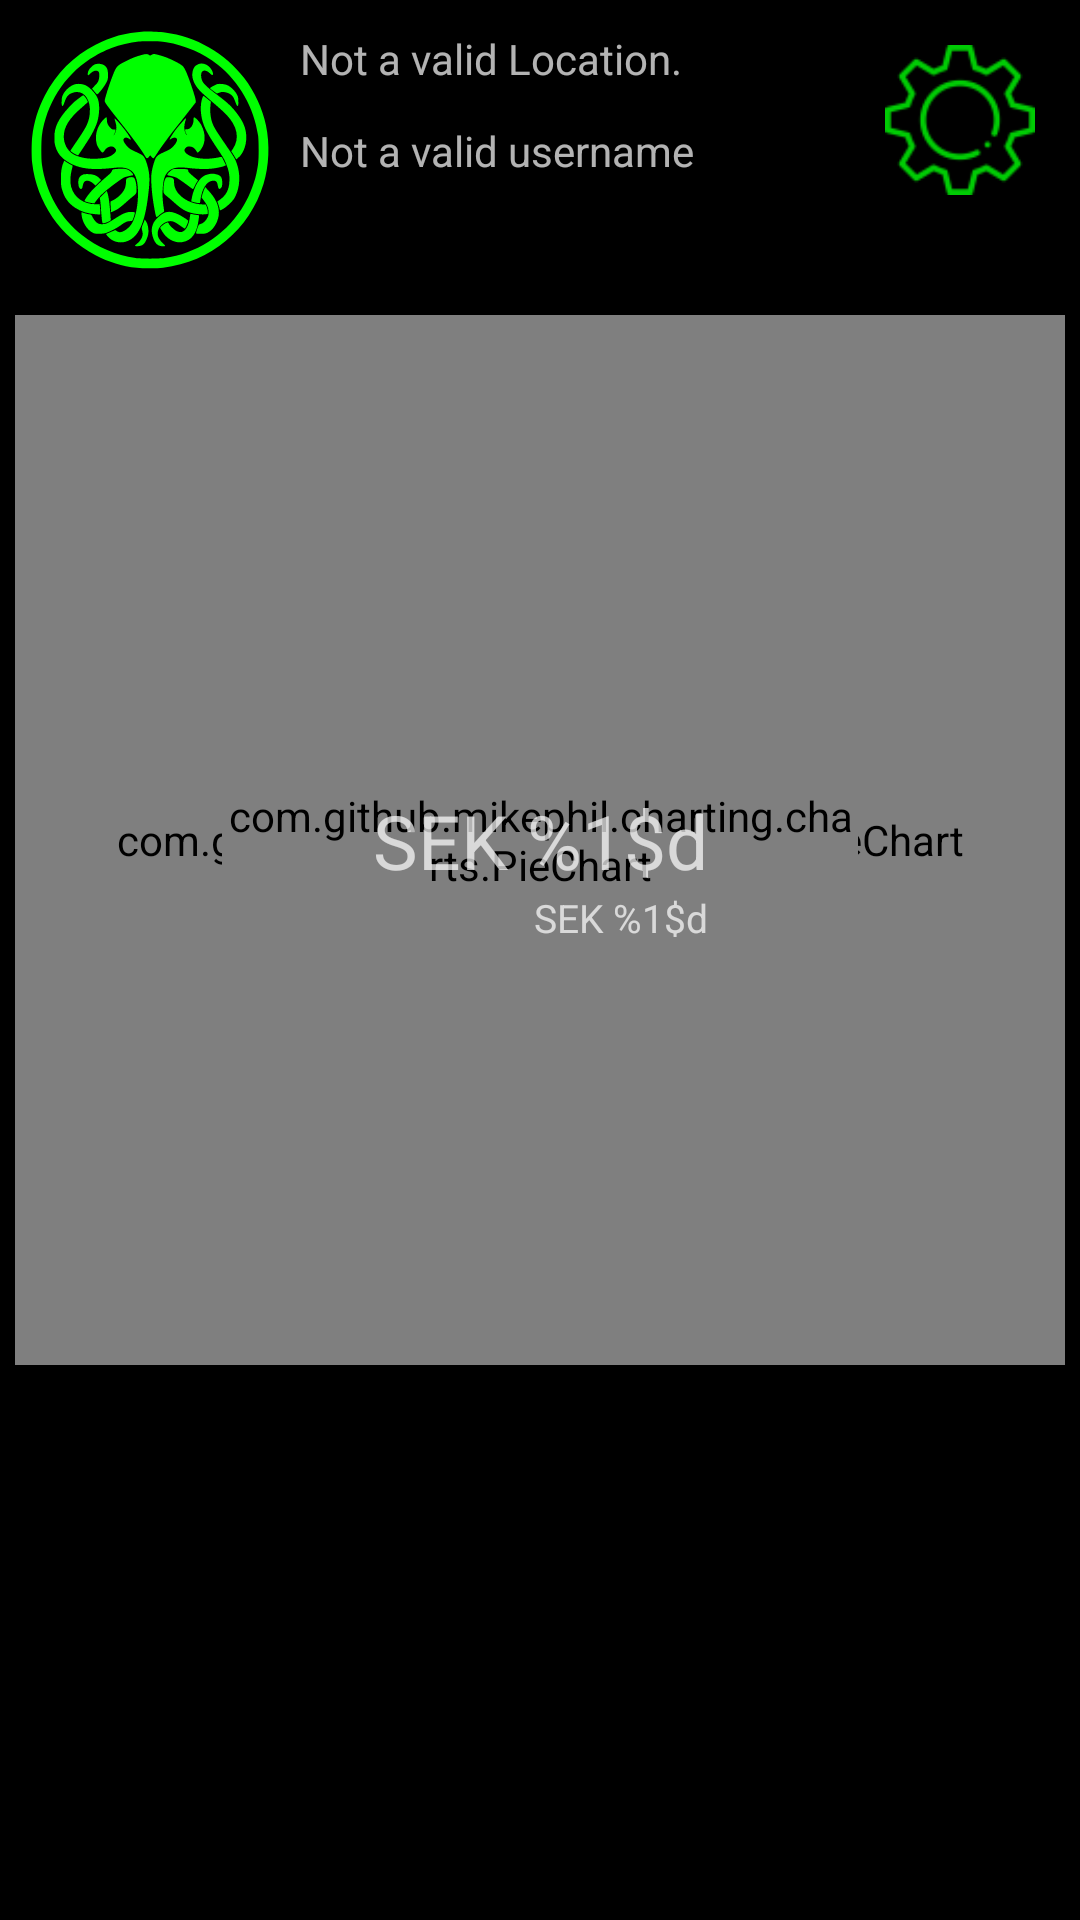

Where to tap for icons on this 1080 × 1920 app screen, as (x,y):
Settings: (960,120)
